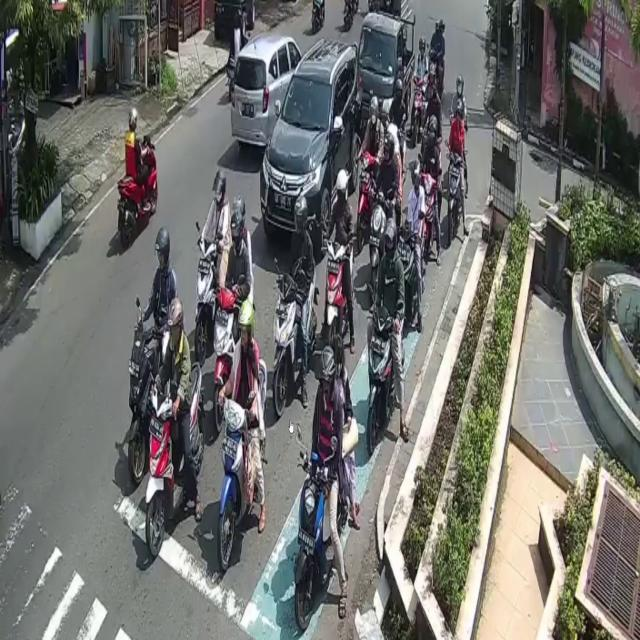bus: (147, 360, 203, 562), (220, 356, 268, 562), (272, 264, 316, 432), (293, 450, 331, 631), (128, 321, 162, 487), (365, 307, 394, 459), (118, 135, 157, 246), (194, 226, 216, 357), (327, 240, 352, 349), (446, 150, 466, 241)
motorcycle: (261, 38, 363, 250), (232, 37, 304, 143), (356, 11, 414, 138)
